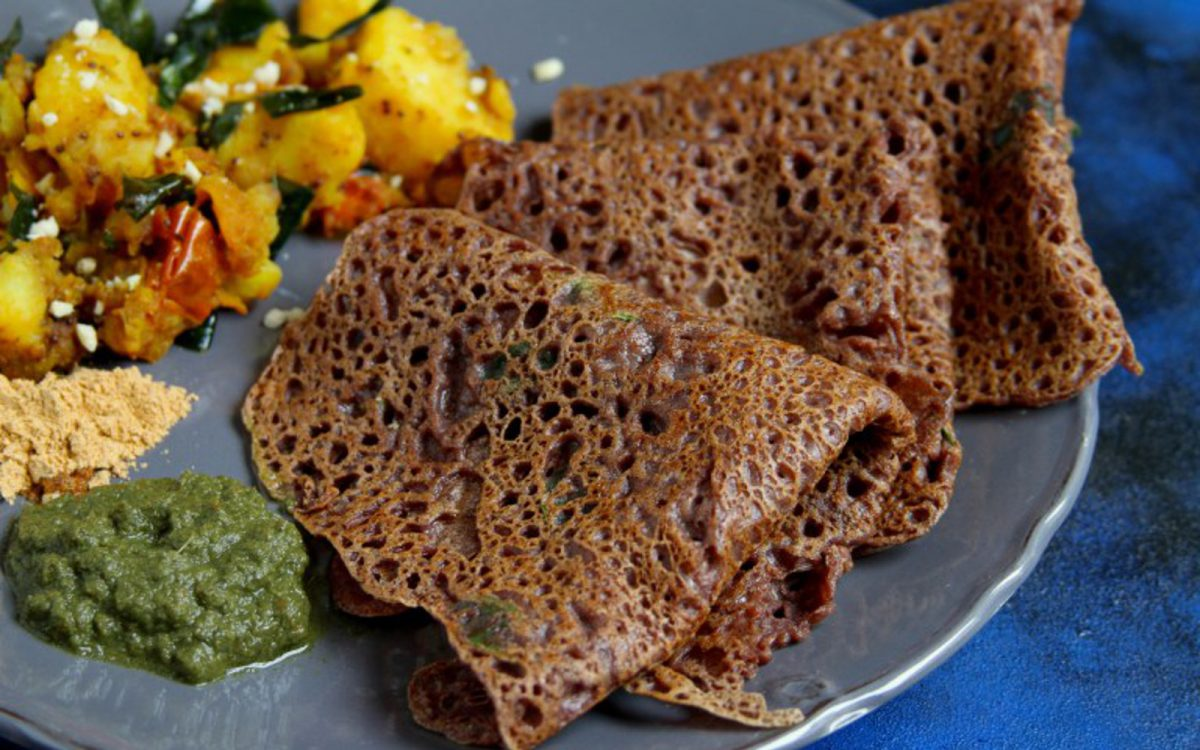dosa: (235, 7, 1145, 750)
